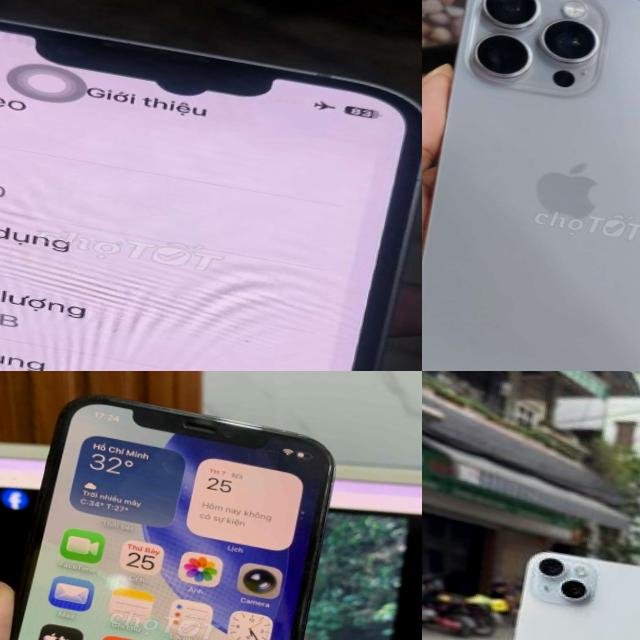gen_12_13: (0, 0, 422, 371), (0, 371, 352, 640)
gen_15: (422, 0, 640, 371), (467, 530, 640, 640)
